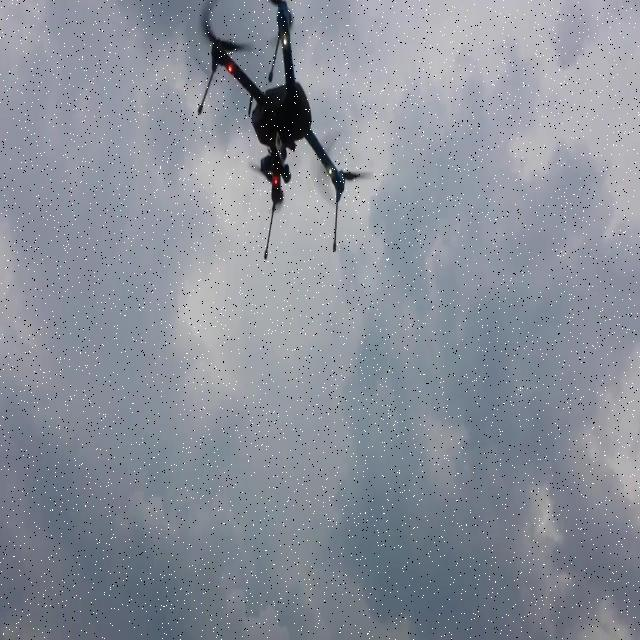UAV: (197, 0, 374, 260)
